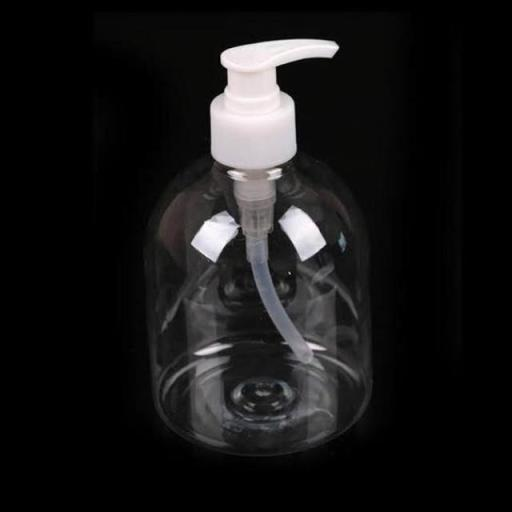plastic: (134, 31, 384, 453)
